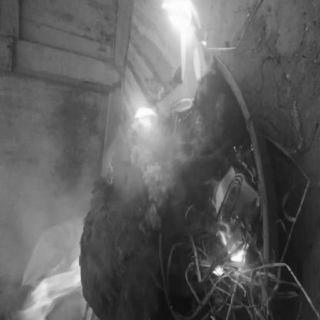Fire: (12, 258, 82, 318), (206, 217, 262, 287), (159, 0, 205, 73)
other: (132, 143, 166, 233)
